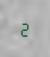two: (19, 20, 29, 36)
